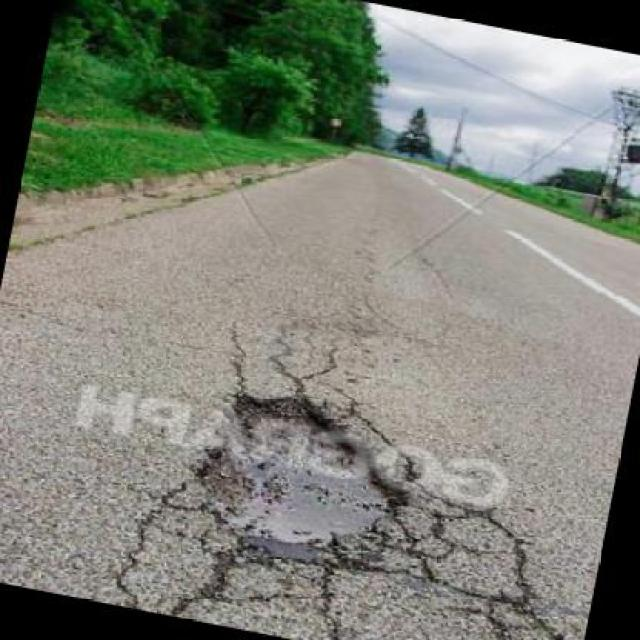pothole: (175, 377, 432, 585)
